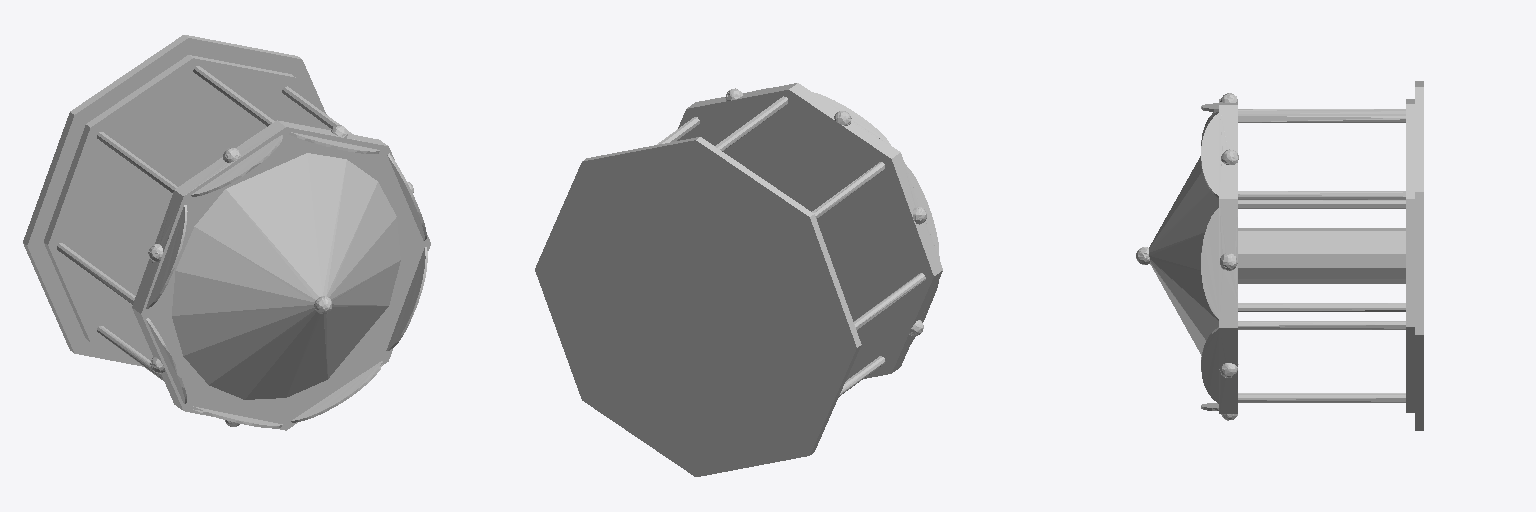
Rendered from merrygoround.obj.
3 renders of one model, left to right at view 1: azimuth 30°, elevation 25°; view 2: azimuth 150°, elevation 25°; view 3: azimuth 270°, elevation 25°, orthographic.
Parts seen in each view (by area): view 1: group_[number redacted]; view 2: group_[number redacted]; view 3: group_[number redacted].
Part boxes in pixels (left/top/right/bottom): group_[number redacted]: left=23, top=35, right=430, bottom=430; group_[number redacted]: left=535, top=83, right=942, bottom=476; group_[number redacted]: left=1136, top=81, right=1423, bottom=430.
Bounding box in the file's own units: 4 × 4 × 3.1.